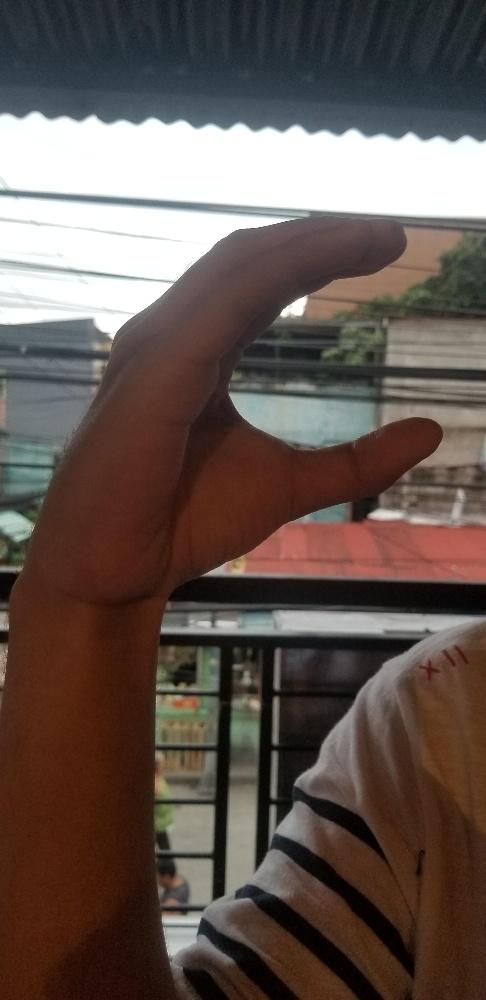c: (26, 213, 442, 592)
